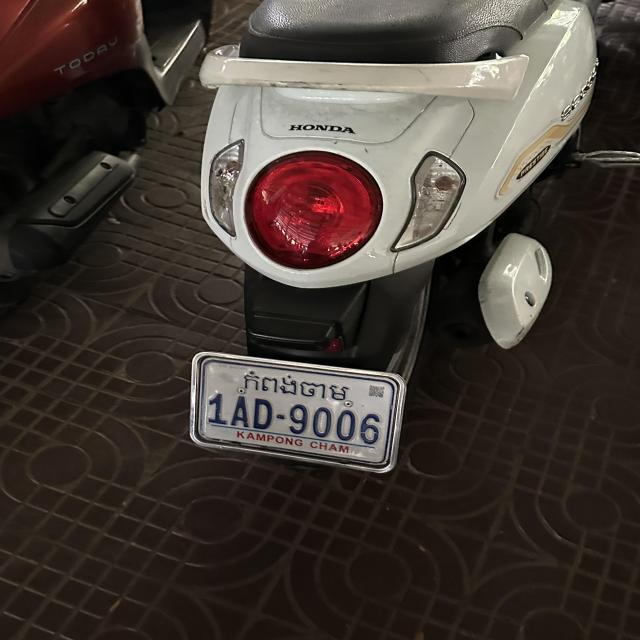Kampong_Cham: (238, 368, 352, 403)
